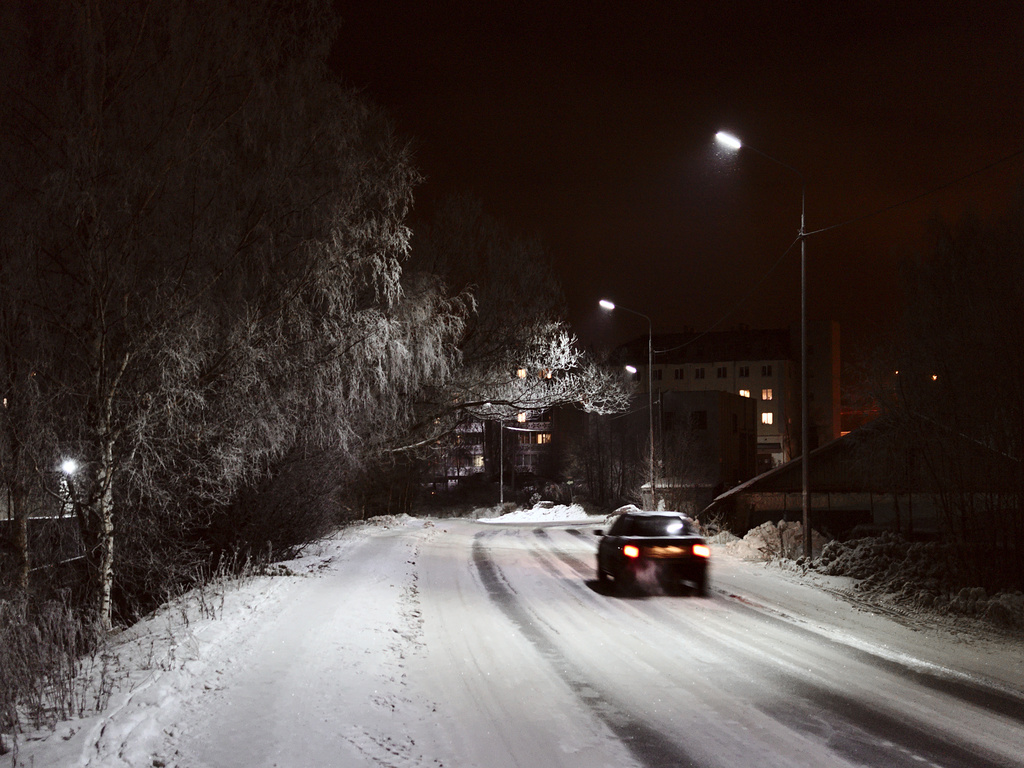Car: (595, 506, 720, 599)
